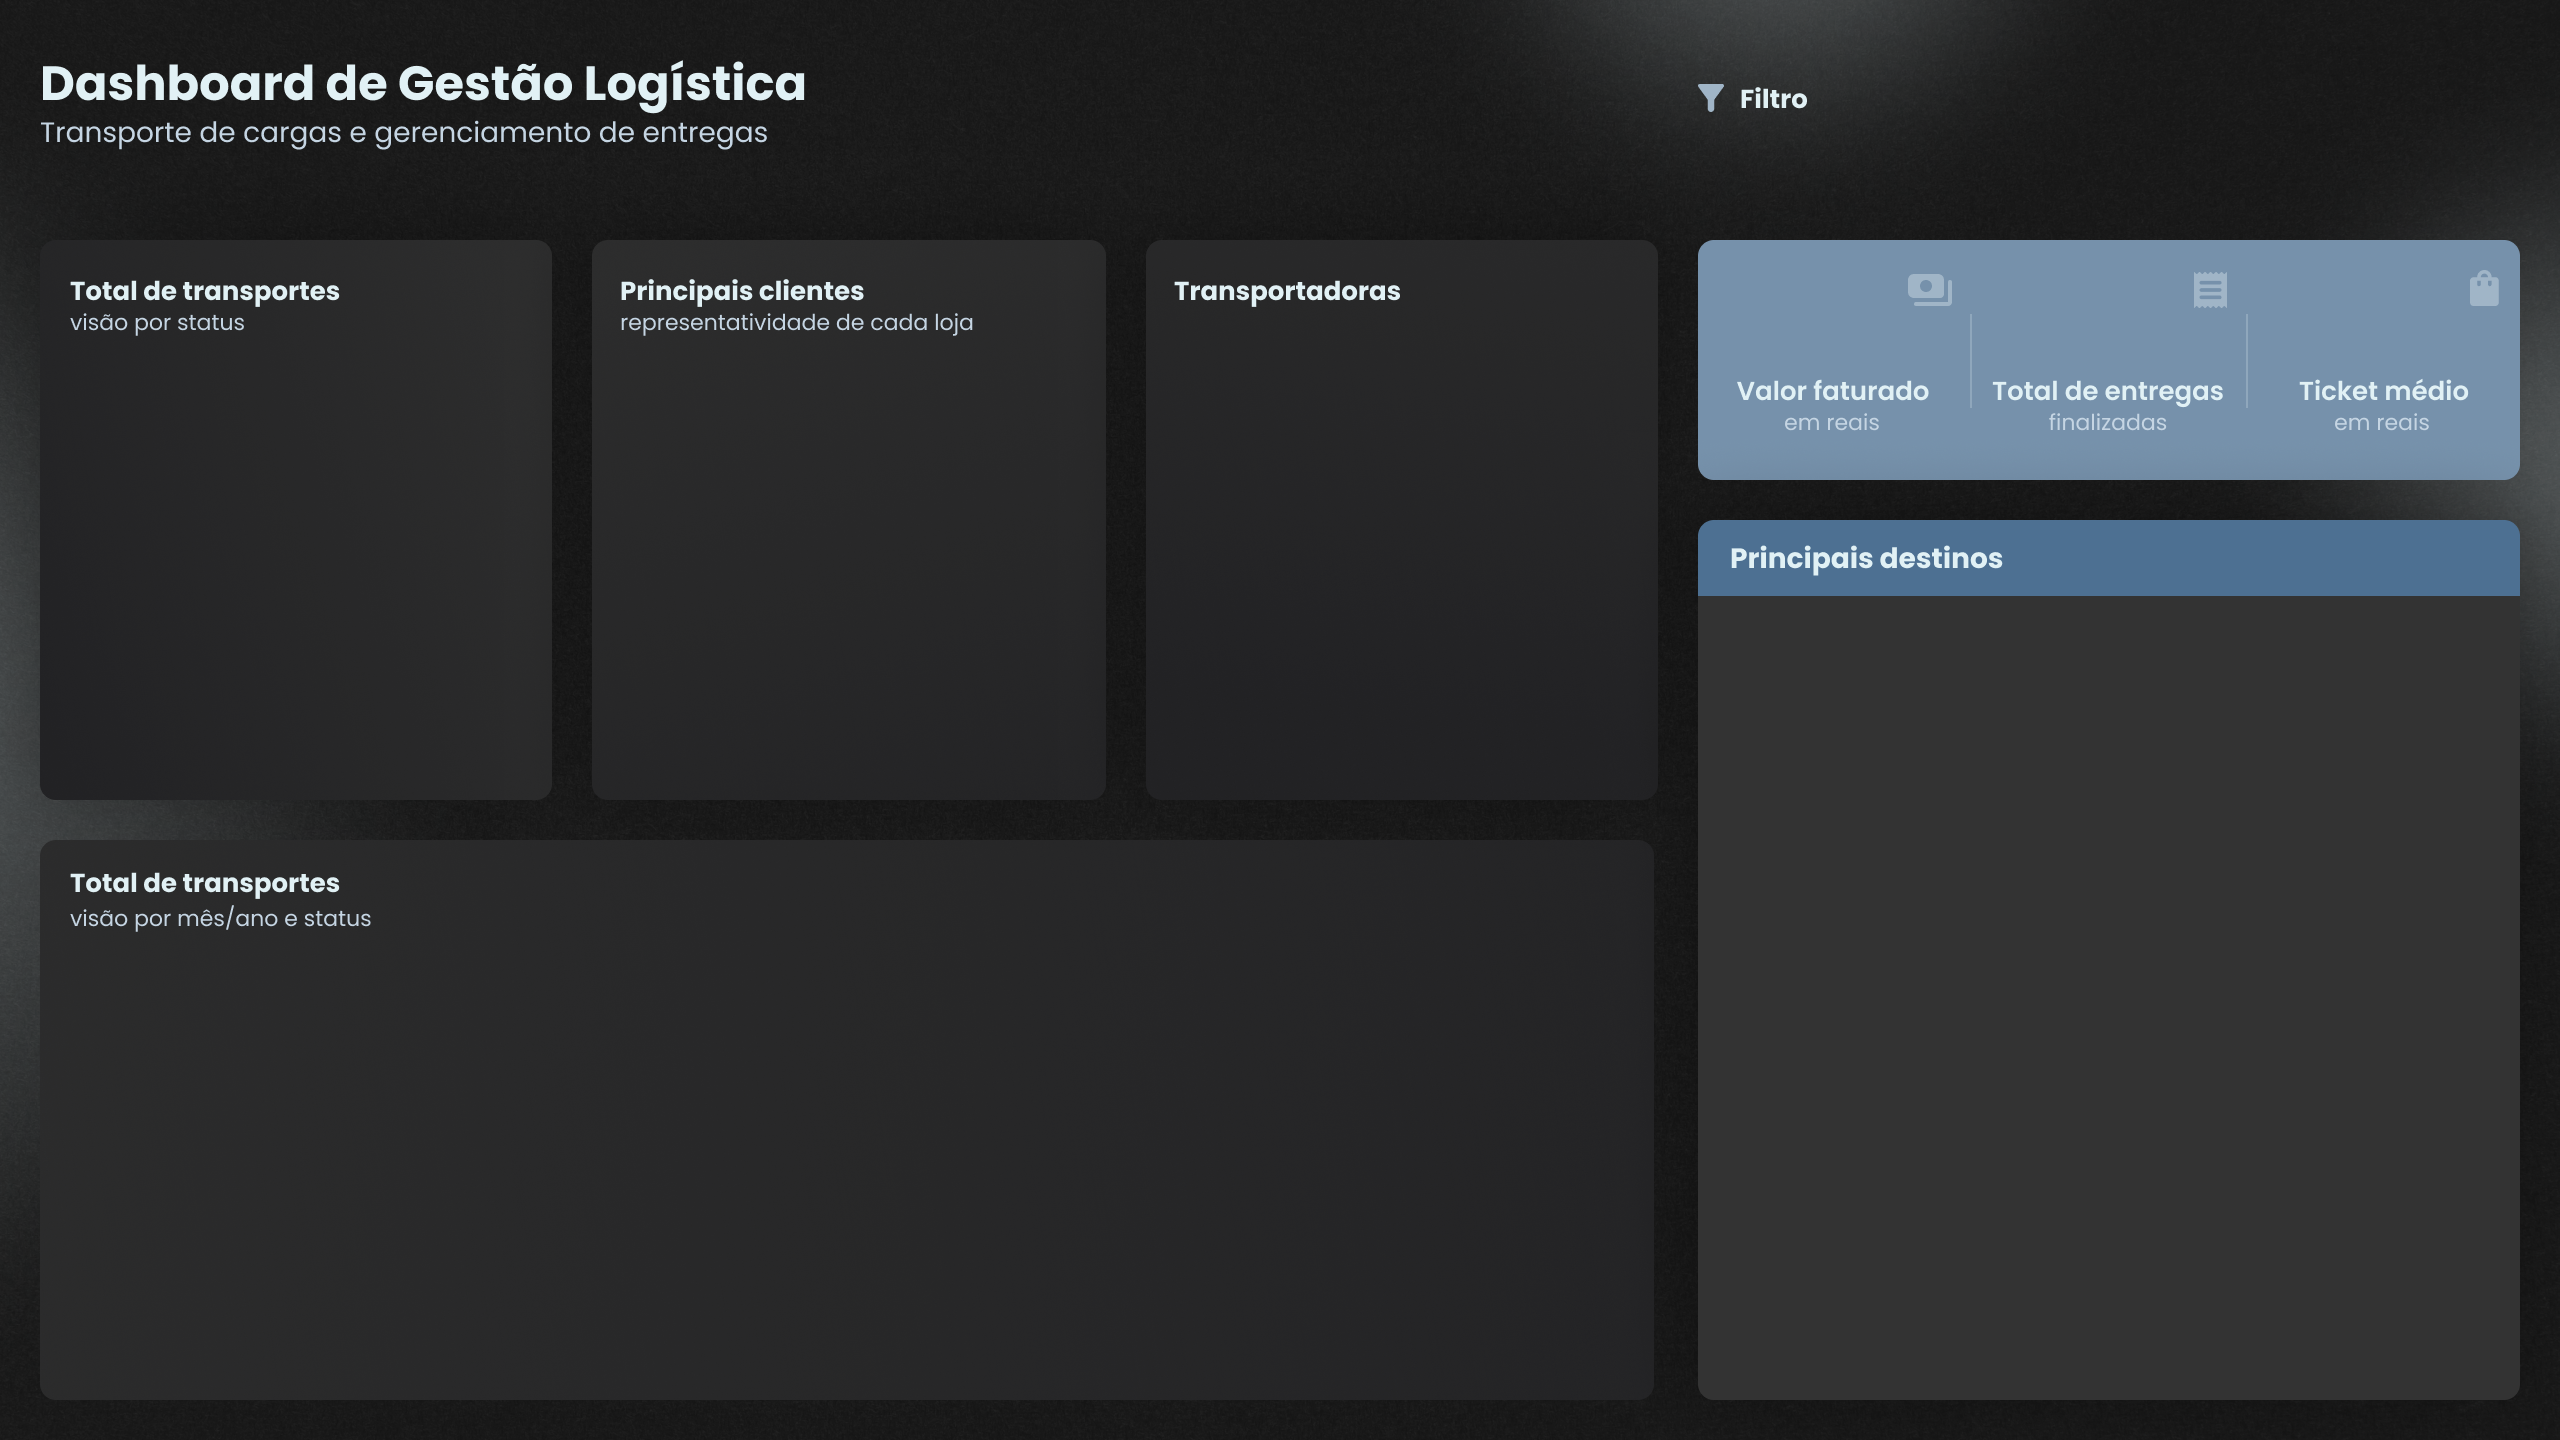

The dashboard page shown, as its layout file describes it:
{"tool":"powerbi","page":{"name":"Page 1","canvas":[1280,720],"ordinal":0},"visuals":[{"type":"card","fields":{"Values":["CountNonNull(database.NF)"]},"box":[993.6,124.5,121,86.8],"z":0},{"type":"card","fields":{"Values":["Sum(database.Valor Total)"]},"box":[849.8,137.7,126.3,60.5],"z":1000},{"type":"map","fields":{"Category":["database.Destino"],"Size":["Sum(database.Valor Total)"]},"box":[857.7,305.2,393.8,385],"z":2000},{"type":"pieChart","title":"Faturamento por cliente","fields":{"Y":["Sum(database.Valor Total)"],"Category":["database.Cliente"]},"box":[308.7,177.1,235,207],"z":3000},{"type":"card","fields":{"Values":["database.ticket_medio"]},"box":[1114.6,139.4,136.8,57],"z":4000},{"type":"clusteredBarChart","title":"Transportadoras","fields":{"Category":["database.Transportadora"],"Y":["CountNonNull(database.NF)"]},"box":[577.9,162.2,249.1,228],"z":5000},{"type":"lineChart","title":"Pedidos por Mês/Ano","fields":{"Category":["database.Pedido.Variation.Date Hierarchy.Year","database.Pedido.Variation.Date Hierarchy.Month"],"Y":["CountNonNull(database.NF)"],"Series":["database.Status"]},"box":[31.6,478,788.4,211.4],"z":6000},{"type":"clusteredColumnChart","title":"Análise por Status","fields":{"Category":["database.Status"],"Y":["CountNonNull(database.NF)"]},"box":[31.6,177.1,238.5,213.1],"z":6001},{"type":"slicer","fields":{"Values":["database.Pedido.Variation.Date Hierarchy.Year"]},"box":[912.2,29.4,326.1,41.7],"z":6002}]}

Visuals, with their boxes in screenshot pixels (x1, y1, x2, y2), scaled from the page's 1280x720 canvas onto the 2560x1440 screenshot:
card - CountNonNull(database.NF): (1987,249,2229,423)
card - Sum(database.Valor Total): (1700,275,1952,396)
map - database.Destino x Sum(database.Valor Total): (1715,610,2503,1380)
"Faturamento por cliente" pieChart: (617,354,1087,768)
card - database.ticket_medio: (2229,279,2503,393)
"Transportadoras" clusteredBarChart: (1156,324,1654,780)
"Pedidos por Mês/Ano" lineChart: (63,956,1640,1379)
"Análise por Status" clusteredColumnChart: (63,354,540,780)
slicer - database.Pedido.Variation.Date Hierarchy.Year: (1824,59,2477,142)
